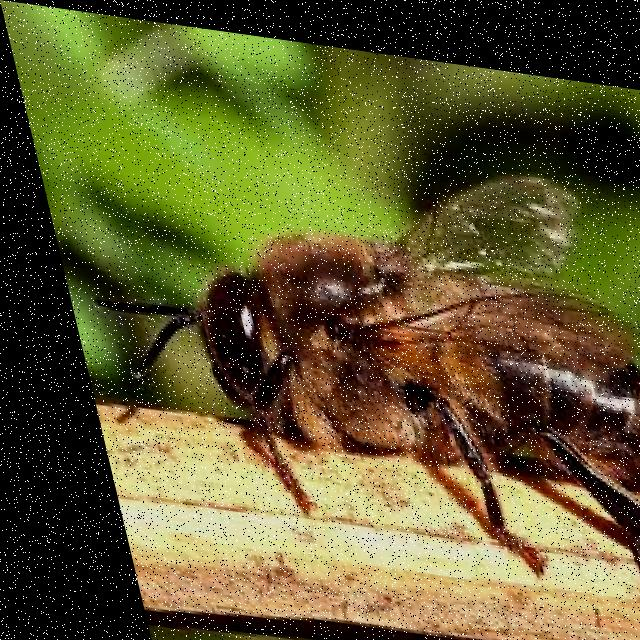Apis-mellifera-scutellata: (56, 111, 640, 640)
